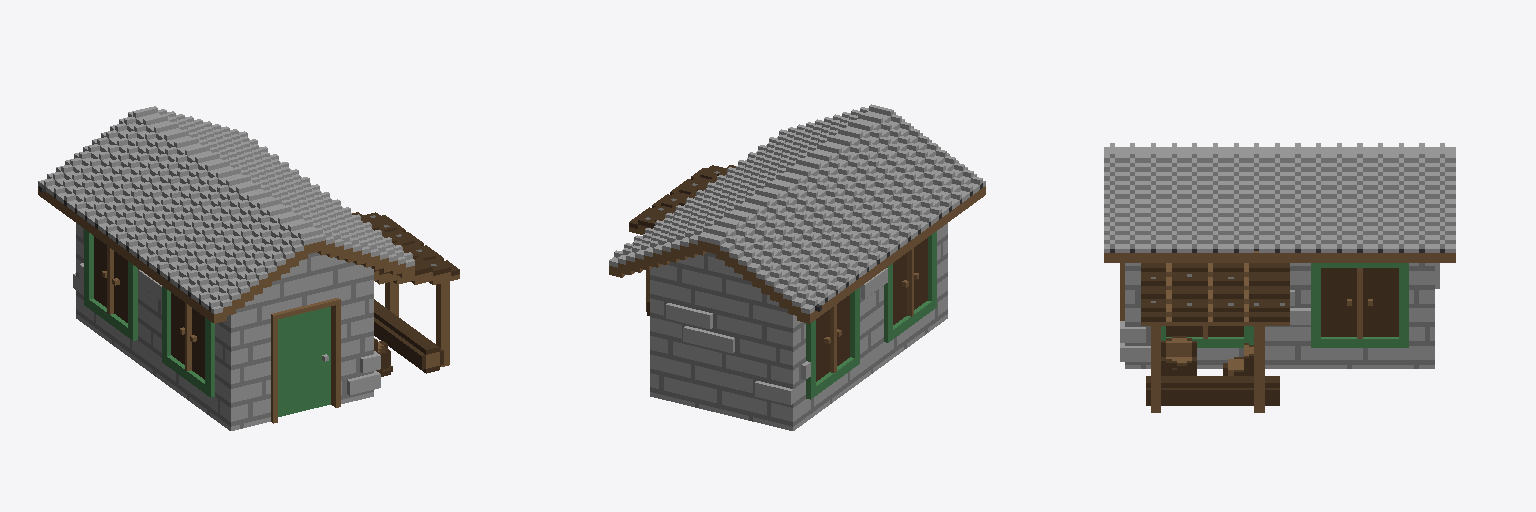
The picture shows the model from 3 angles: view 1: azimuth 30°, elevation 25°; view 2: azimuth 150°, elevation 25°; view 3: azimuth 270°, elevation 25°; orthographic projection.
Parts seen in each view (by area): view 1: object 1; view 2: object 1; view 3: object 1.
Boxes of the visible parts, x1=… form: object 1: x1=38, y1=106, x2=459, y2=430; object 1: x1=609, y1=104, x2=985, y2=430; object 1: x1=1104, y1=143, x2=1455, y2=412.
Size of the model in its own units: 6 by 4 by 6.8.
Materials: 1 (1 with a texture image).